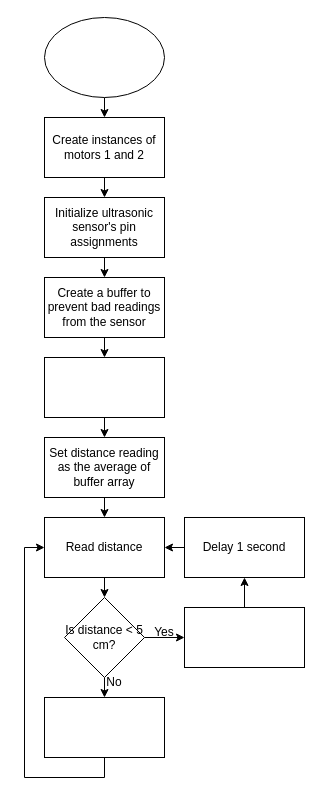
The diagram is 322 pixels wide and 796 high, and some of its shapes have lost their labels. The centre of each missing label's shape, as x and y in pixels:
"Rotate motor 1 backward and motor 2 forward" goes at [244,637].
"Rotate motors 1 and 2 forward" goes at [104,727].
"Set collision distance to 5 cm" goes at [104,387].
"Start" goes at [104,57].
